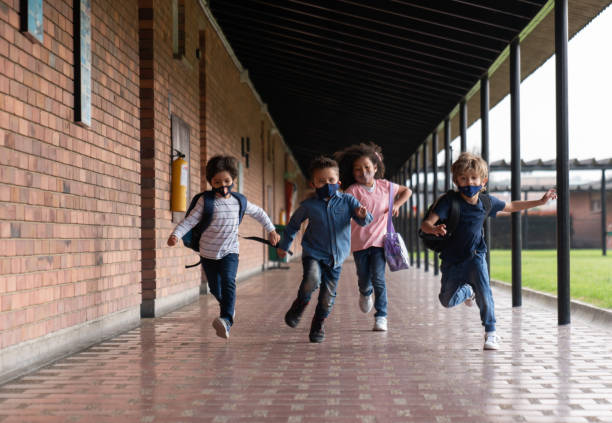with mask: (297, 154, 346, 213), (447, 151, 495, 206), (347, 140, 395, 195), (201, 156, 247, 199)
